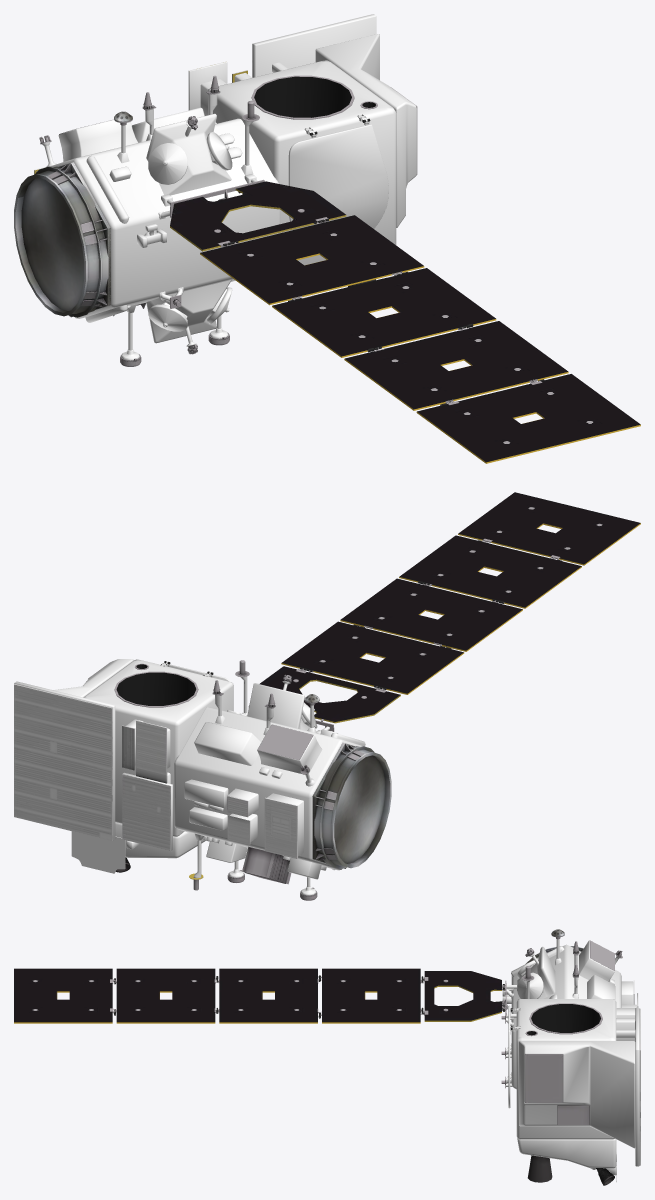
The model's file is icesat2.glb.
3 renders of one model, top to bottom at view 1: azimuth 30°, elevation 25°; view 2: azimuth 150°, elevation 25°; view 3: azimuth 270°, elevation 25°, orthographic. The views are drawn at different scales.
Parts seen in each view (by area): view 1: bus_2, solar_2, bus_1, atlas_1, solar_1; view 2: bus_1, bus_2, solar_2, atlas_1; view 3: solar_2, bus_2, bus_1, atlas_1, solar_1.
Part boxes in pixels (<box>): bus_2: <box>36,14,416,360</box>; solar_2: <box>200,215,640,463</box>; bus_1: <box>14,14,417,366</box>; atlas_1: <box>251,75,377,119</box>; solar_1: <box>186,114,544,405</box>; bus_1: <box>14,660,400,900</box>; bus_2: <box>14,659,365,895</box>; solar_2: <box>281,492,640,694</box>; atlas_1: <box>114,663,198,707</box>; solar_2: <box>14,968,420,1023</box>; bus_2: <box>502,939,639,1181</box>; bus_1: <box>424,929,640,1185</box>; atlas_1: <box>525,1003,602,1036</box>; solar_1: <box>110,975,520,1034</box>.
Bounding box in the file's own units: 3.63 × 2.31 × 7.34.
9 materials, 1 textured.
